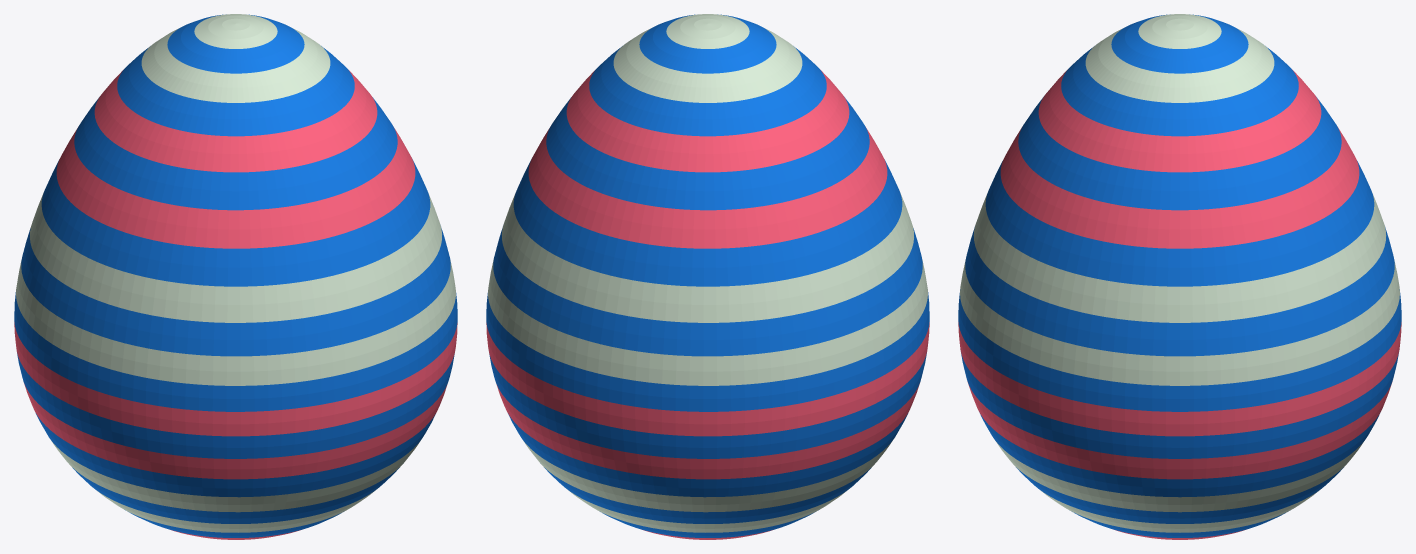
The model's file is eggBlue.glb.
3 renders of one model, left to right at view 1: azimuth 30°, elevation 25°; view 2: azimuth 150°, elevation 25°; view 3: azimuth 270°, elevation 25°, orthographic.
Parts seen in each view (by area): view 1: Sphere; view 2: Sphere; view 3: Sphere.
Part boxes in pixels (x1,y1,x2,y2): Sphere: (14, 14, 457, 539); Sphere: (486, 14, 929, 539); Sphere: (958, 14, 1401, 539).
Size of the model in its own units: 2 by 2.46 by 2.
